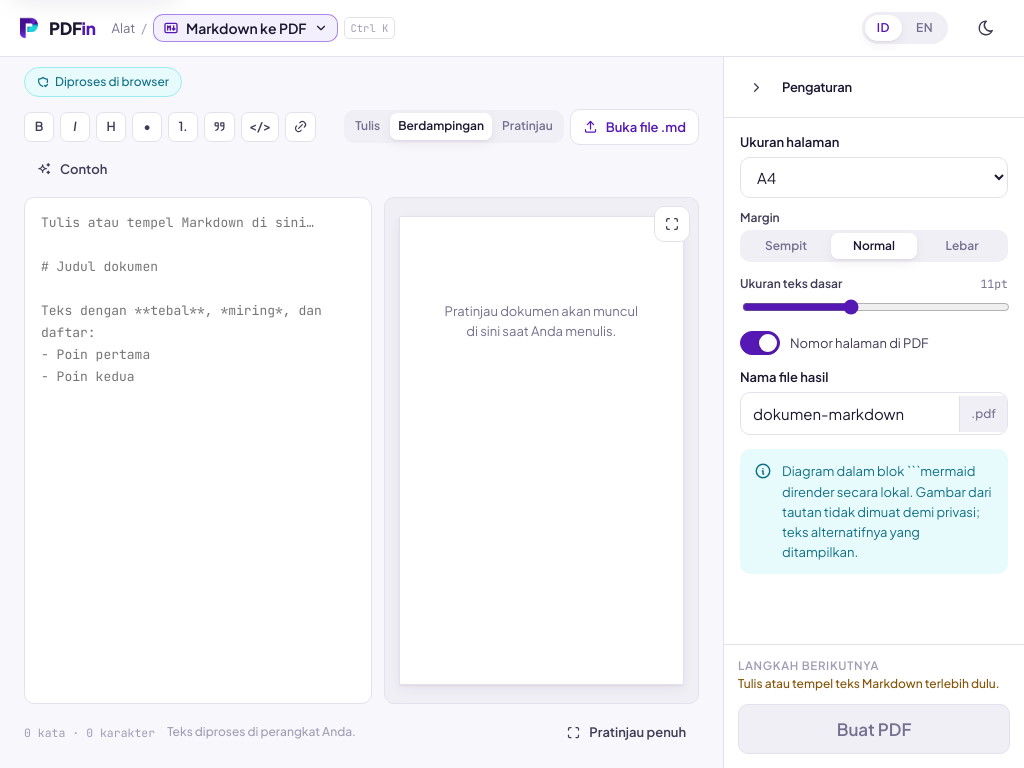
Scenario: Markdown to PDF tool › opens the full preview from the preview pane corner button
Replace the text in the text box named "editor markdown" with "# Judul" at {"x": 198, "y": 450}, box left=24, top=197, right=372, bottom=704
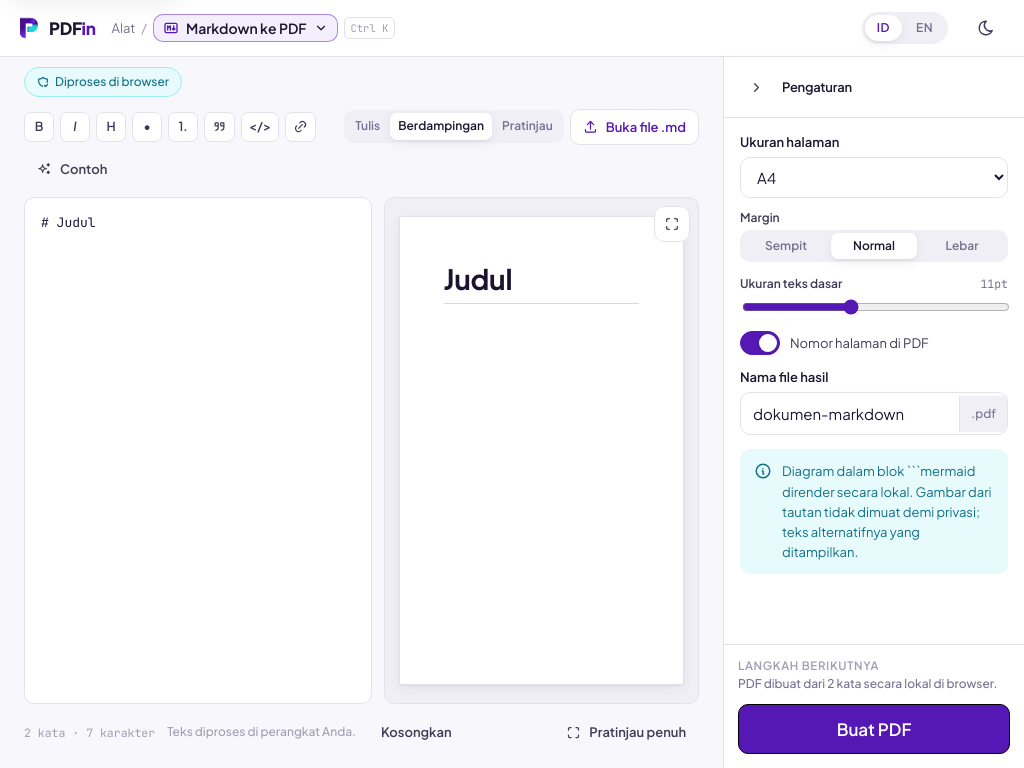
Click the button named "buka pratinjau penuh" at {"x": 672, "y": 224}, box left=654, top=206, right=690, bottom=242
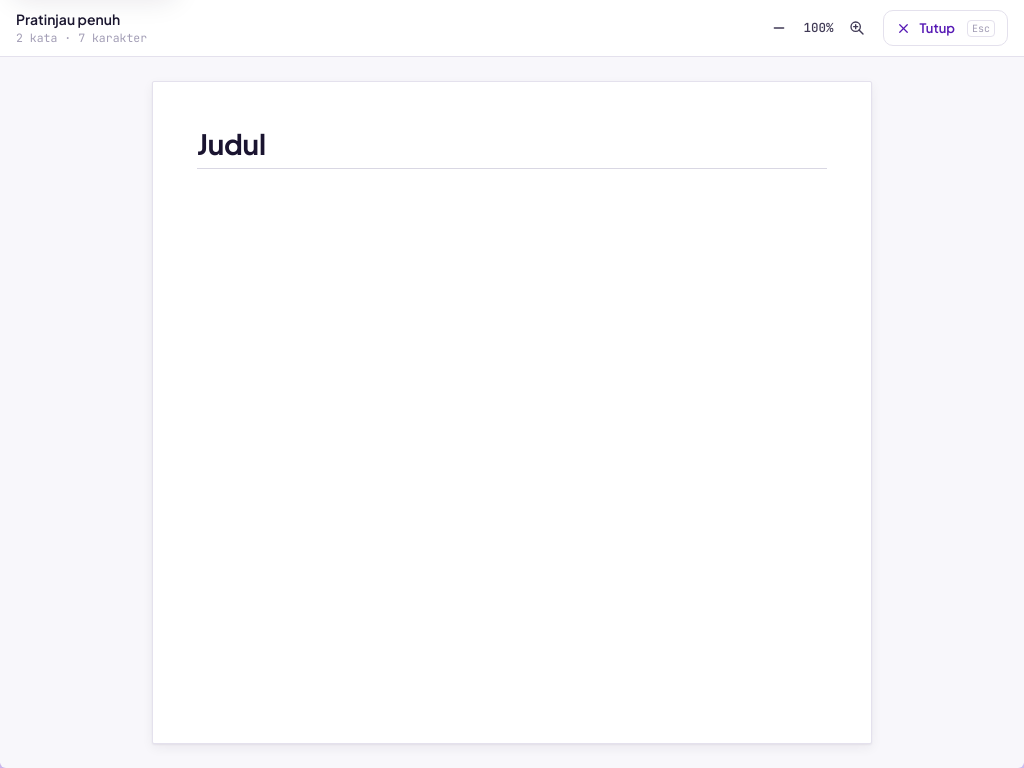
Check: the dialog "Pratinjau penuh 2 kata · 7 karakter 100% Tutup Esc Judul" is shown
